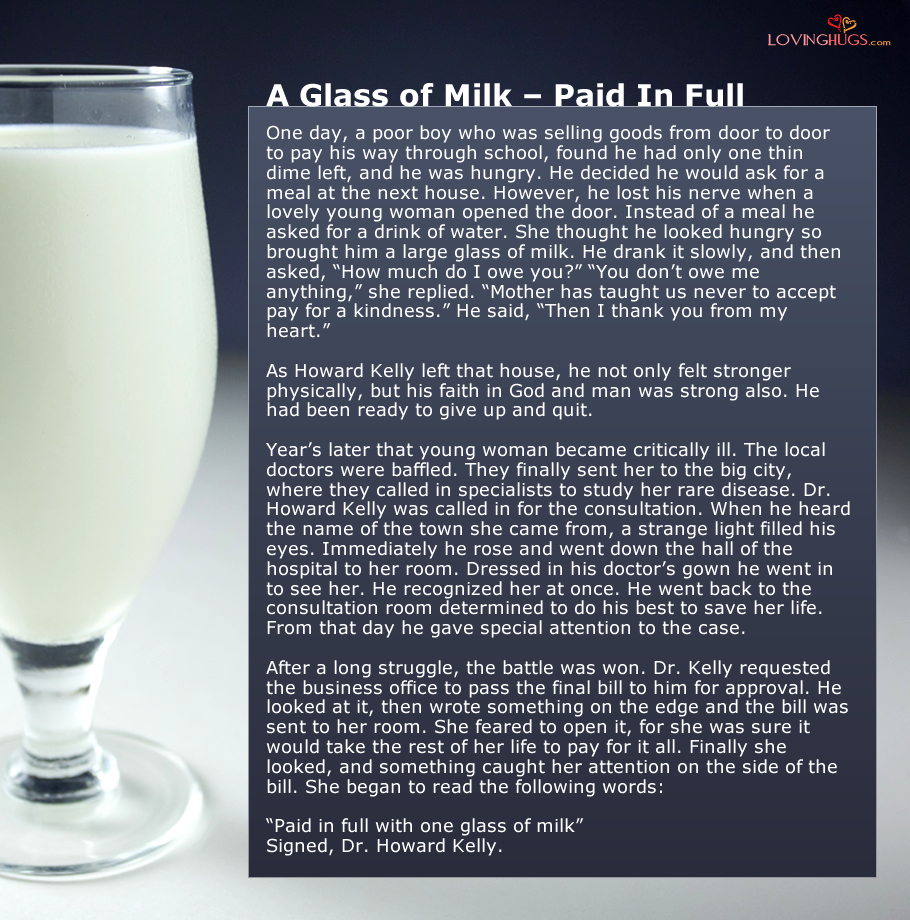glass of milk: (5, 63, 224, 884)
